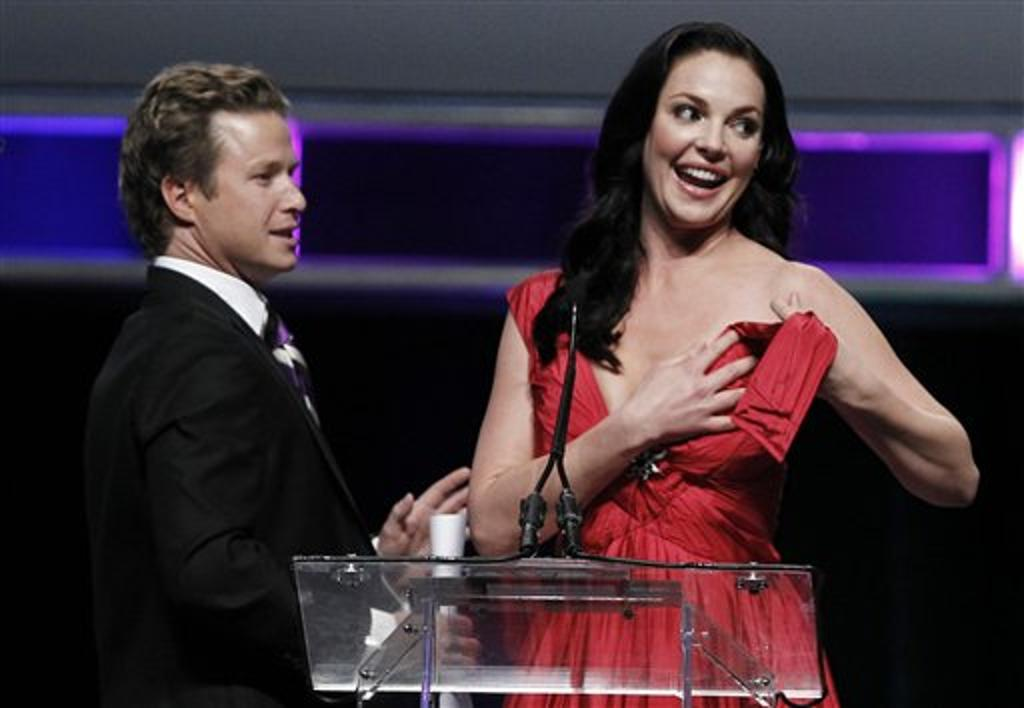face: (644, 48, 766, 228), (208, 114, 304, 266)
